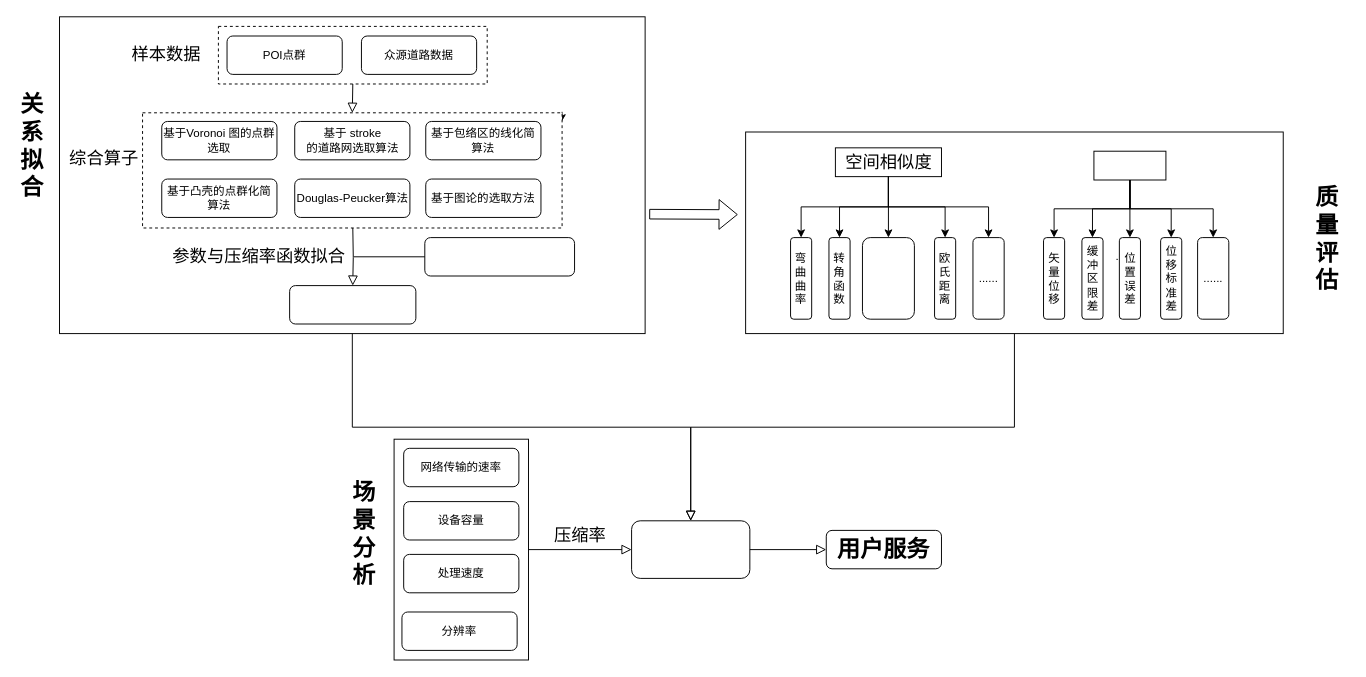
The diagram is 1366 pixels wide and 677 high, and some of its shapes have lost their labels. The shapes that lost their labels are listed below. From the top down, each one's centre as x and y in pixels, then its label:
At point (1129, 165): "几何精度".
At point (499, 256): "压缩率（0%----100%）".
At point (888, 278): "Hausdoff距离".
At point (352, 304): "参数拟合器".
At point (690, 549): "综合控制器".
